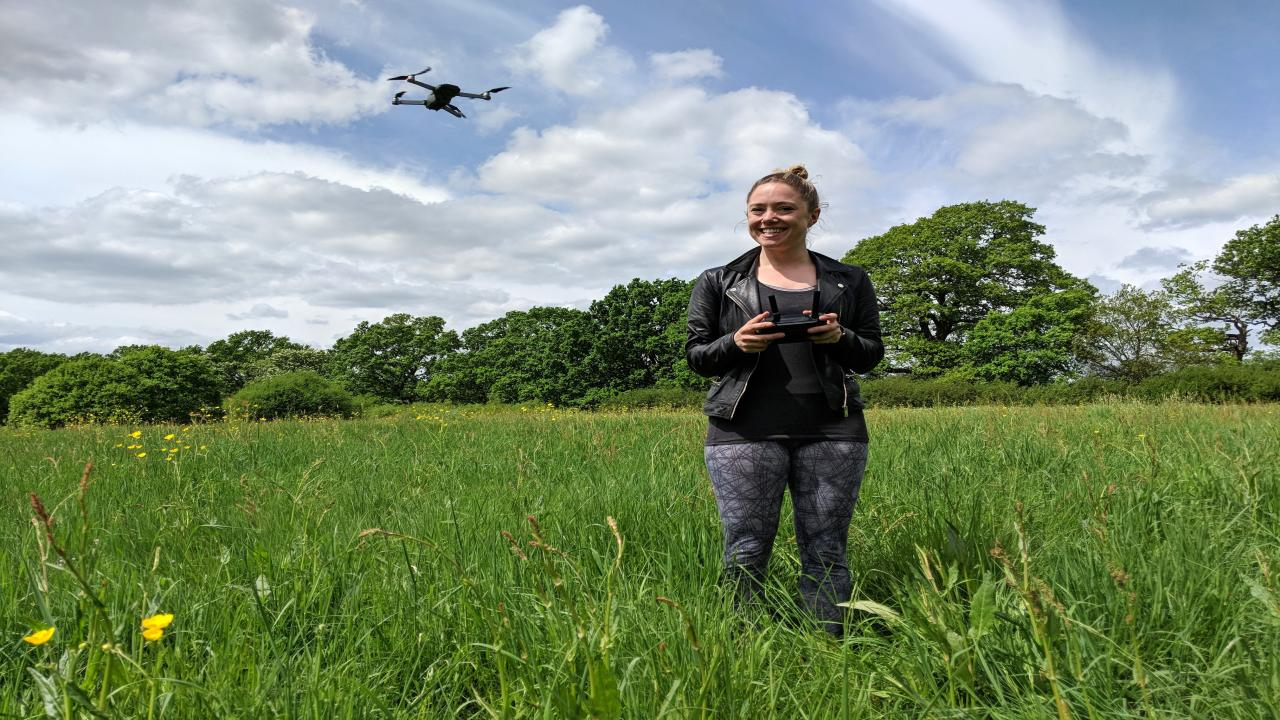Drone: (372, 59, 518, 131)
